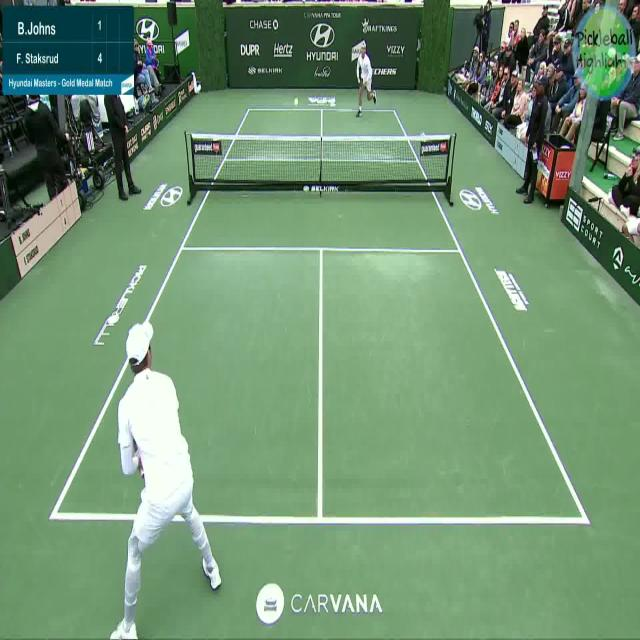ball: (292, 94, 302, 115)
